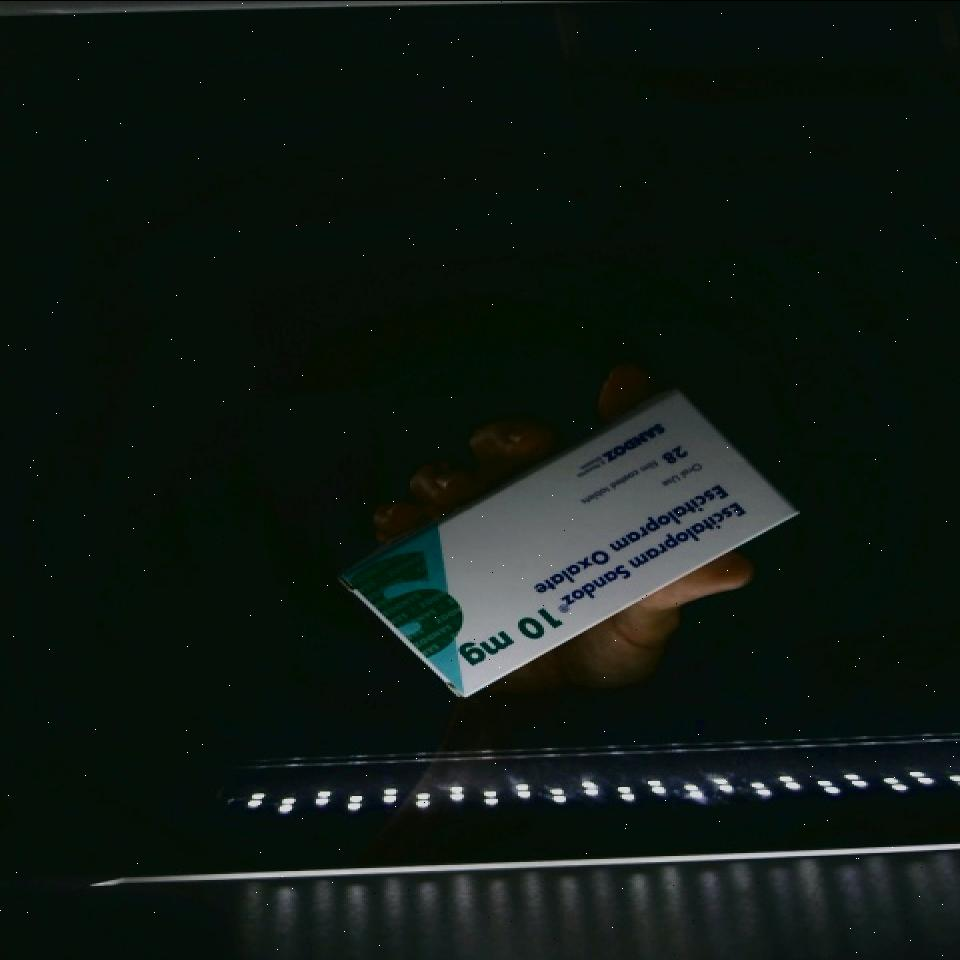medicine_box: (343, 368, 793, 720)
medicine_label_obb: (517, 450, 770, 640)
